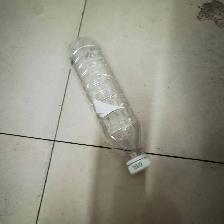bottle: (17, 15, 195, 180)
